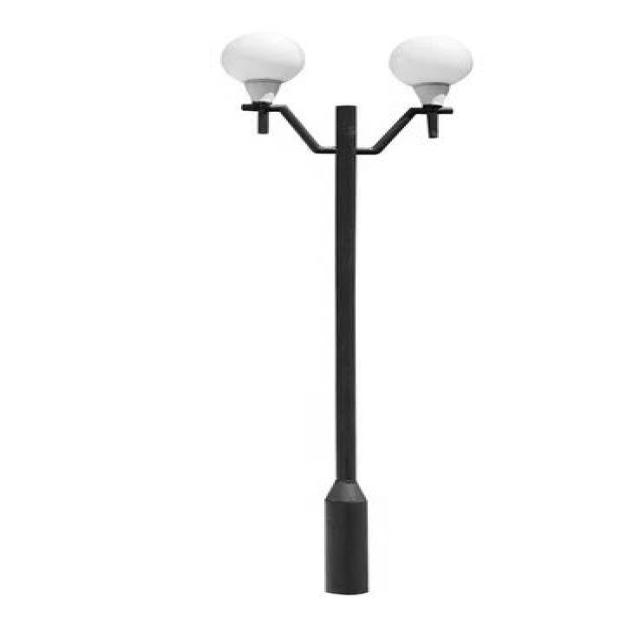Pole: (326, 106, 370, 594)
